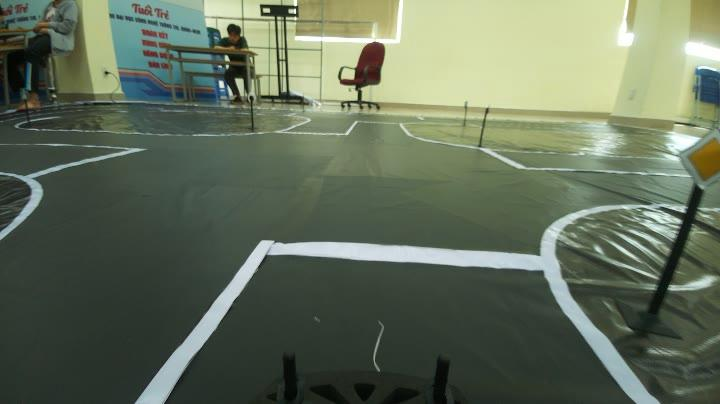priority: (672, 126, 720, 190)
